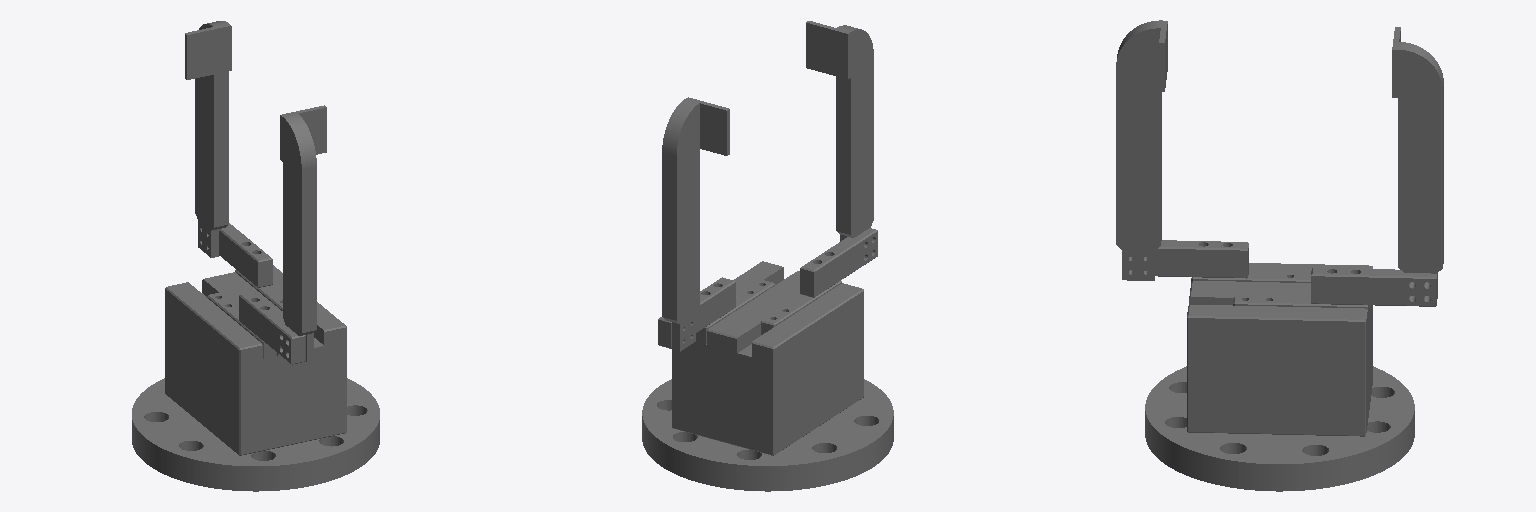
robot.urdf — custom_robots:
<?xml version="1.0" ?>
<robot name="custom_robots" version="1.0">
  <material name="black">
    <color rgba="0.0 0.0 0.0 1.0"/>
  </material>
  <material name="blue">
    <color rgba="0.0 0.0 0.8 1.0"/>
  </material>
  <material name="green">
    <color rgba="0.0 0.8 0.0 1.0"/>
  </material>
  <material name="grey_">
    <color rgba="0.2 0.2 0.2 1.0"/>
  </material>
  <material name="orange">
    <color rgba="1.0 0.423529411765 0.0392156862745 1.0"/>
  </material>
  <material name="brown">
    <color rgba="0.870588235294 0.811764705882 0.764705882353 1.0"/>
  </material>
  <material name="red">
    <color rgba="0.8 0.0 0.0 1.0"/>
  </material>
  <material name="white">
    <color rgba="1.0 1.0 1.0 1.0"/>
  </material>
  <material name="metal">
    <color rgba="0.76862745098 0.749019607843 0.729411764706 1.0"/>
  </material>
  <material name="metal_grey">
    <color rgba="0.501960784314 0.501960784314 0.501960784314 1.0"/>
  </material>
  <material name="metal_white">
    <color rgba="0.866666666667 0.866666666667 0.890196078431 1.0"/>
  </material>
  <link name="base_link"/>
  <joint name="indy0_joint_base_link" type="fixed">
    <origin rpy="0.0 0.0 3.08199950136" xyz="1.03633780199 2.0414414769 0.903441701368"/>
    <parent link="base_link"/>
    <child link="indy0_link0"/>
  </joint>
  <link name="indy0_link0">
    <inertial>
      <origin rpy="0.0 0.0 0.0" xyz="0.0 0.0 0.0"/>
      <mass value="1.59306955"/>
      <inertia ixx="0.00572623" ixy="2.51e-06" ixz="-0.0001138" iyy="0.00558959" iyz="-1.4e-07" izz="0.00966674"/>
    </inertial>
    <visual>
      <origin rpy="0.0 0.0 0.0" xyz="0.0 0.0 0.0"/>
      <geometry>
        <mesh filename="package://indy7_description/meshes/stl/Indy7_0.stl"/>
      </geometry>
      <material name="metal_grey"/>
    </visual>
    <collision>
      <origin rpy="-0.0 1.57079633 0.0" xyz="-0.1 0.0 0.03"/>
      <geometry>
        <cylinder length="0.2" radius="0.05"/>
      </geometry>
    </collision>
  </link>
  <link name="indy0_link1">
    <inertial>
      <origin rpy="0.0 0.0 0.0" xyz="0.0 0.0 0.0"/>
      <mass value="11.8030102"/>
      <inertia ixx="0.15418559" ixy="-2.35e-06" ixz="1.739e-05" iyy="0.12937017" iyz="-0.04854267" izz="0.05964415"/>
    </inertial>
    <visual>
      <origin rpy="0.0 0.0 0.0" xyz="0.0 0.0 0.0"/>
      <geometry>
        <mesh filename="package://indy7_description/meshes/stl/Indy7_1.stl"/>
      </geometry>
      <material name="metal_grey"/>
    </visual>
    <collision>
      <origin rpy="0.0 0.0 0.0" xyz="0.0 0.0 0.072"/>
      <geometry>
        <cylinder length="0.3" radius="0.1"/>
      </geometry>
    </collision>
  </link>
  <link name="indy0_link2">
    <inertial>
      <origin rpy="0.0 0.0 0.0" xyz="0.0 0.0 0.0"/>
      <mass value="7.99292141"/>
      <inertia ixx="0.2935698" ixy="-4e-07" ixz="1.441e-05" iyy="0.28094142" iyz="0.03727972" izz="0.03620609"/>
    </inertial>
    <visual>
      <origin rpy="0.0 0.0 0.0" xyz="0.0 0.0 0.0"/>
      <geometry>
        <mesh filename="package://indy7_description/meshes/stl/Indy7_2.stl"/>
      </geometry>
      <material name="metal_grey"/>
    </visual>
    <collision>
      <origin rpy="1.57079632679 0.0 -1.57079632679" xyz="-0.225 0.0 0.09"/>
      <geometry>
        <cylinder length="0.45" radius="0.073"/>
      </geometry>
    </collision>
    <collision>
      <origin rpy="0.0 0.0 0.0" xyz="0.0 0.0 -0.01"/>
      <geometry>
        <cylinder length="0.2" radius="0.085"/>
      </geometry>
    </collision>
  </link>
  <link name="indy0_link3">
    <inertial>
      <origin rpy="0.0 0.0 0.0" xyz="0.0 0.0 0.0"/>
      <mass value="2.99134127"/>
      <inertia ixx="0.03424593" ixy="1.49e-06" ixz="7.24e-06" iyy="0.03406024" iyz="0.00186009" izz="0.00450477"/>
    </inertial>
    <visual>
      <origin rpy="0.0 0.0 0.0" xyz="0.0 0.0 0.0"/>
      <geometry>
        <mesh filename="package://indy7_description/meshes/stl/Indy7_3.stl"/>
      </geometry>
      <material name="metal_grey"/>
    </visual>
    <collision>
      <origin rpy="0.0 0.0 0.0" xyz="0.0 0.0 0.03"/>
      <geometry>
        <cylinder length="0.2" radius="0.065"/>
      </geometry>
    </collision>
  </link>
  <link name="indy0_link4">
    <inertial>
      <origin rpy="0.0 0.0 0.0" xyz="0.0 0.0 0.0"/>
      <mass value="2.12317035"/>
      <inertia ixx="0.00670405" ixy="3.75e-06" ixz="1.5e-06" iyy="0.00279246" iyz="-0.00127967" izz="0.00619341"/>
    </inertial>
    <visual>
      <origin rpy="0.0 0.0 0.0" xyz="0.0 0.0 0.0"/>
      <geometry>
        <mesh filename="package://indy7_description/meshes/stl/Indy7_4.stl"/>
      </geometry>
      <material name="metal_grey"/>
    </visual>
    <collision>
      <origin rpy="0.0 0.0 0.0" xyz="0.0 0.0 -0.092"/>
      <geometry>
        <cylinder length="0.35" radius="0.06"/>
      </geometry>
    </collision>
  </link>
  <link name="indy0_link5">
    <inertial>
      <origin rpy="0.0 0.0 0.0" xyz="0.0 0.0 0.0"/>
      <mass value="2.28865091"/>
      <inertia ixx="0.00994891" ixy="1.4e-07" ixz="3.21e-06" iyy="0.00978189" iyz="-0.00093546" izz="0.00271492"/>
    </inertial>
    <visual>
      <origin rpy="0.0 0.0 0.0" xyz="0.0 0.0 0.0"/>
      <geometry>
        <mesh filename="package://indy7_description/meshes/stl/Indy7_5.stl"/>
      </geometry>
      <material name="metal_grey"/>
    </visual>
    <collision>
      <origin rpy="0.0 0.0 0.0" xyz="-0.0 0.0 -0.0225"/>
      <geometry>
        <cylinder length="0.183" radius="0.055"/>
      </geometry>
    </collision>
  </link>
  <link name="indy0_link6">
    <inertial>
      <origin rpy="0.0 0.0 0.0" xyz="0.0 0.0 0.0"/>
      <mass value="0.40083918"/>
      <inertia ixx="0.00043534" ixy="1.3e-07" ixz="-2e-08" iyy="0.00044549" iyz="5.1e-07" izz="0.00059634"/>
    </inertial>
    <visual>
      <origin rpy="0.0 0.0 0.0" xyz="0.0 0.0 0.0"/>
      <geometry>
        <mesh filename="package://indy7_description/meshes/stl/Indy7_6.stl"/>
      </geometry>
      <material name="metal_grey"/>
    </visual>
    <collision>
      <origin rpy="0.0 0.0 0.0" xyz="0.0 0.0 -0.038"/>
      <geometry>
        <cylinder length="0.25" radius="0.06"/>
      </geometry>
    </collision>
  </link>
  <link name="indy0_tcp">
    <visual>
      <origin rpy="0.0 0.0 1.570796" xyz="0.0 0.0 0.0"/>
      <geometry>
        <mesh filename="package://my_mesh/meshes/stl/indy_gripper_asm2_res.STL"/>
      </geometry>
      <material name="metal_grey"/>
    </visual>
    <collision>
      <origin rpy="0.0 0.0 0.0" xyz="0.005 0.044 0.1"/>
      <geometry>
        <cylinder length="0.08" radius="0.016"/>
      </geometry>
    </collision>
    <collision>
      <origin rpy="0.0 0.0 0.0" xyz="-0.005 0.044 0.1"/>
      <geometry>
        <cylinder length="0.08" radius="0.016"/>
      </geometry>
    </collision>
    <collision>
      <origin rpy="0.0 0.0 0.0" xyz="0.005 -0.044 0.1"/>
      <geometry>
        <cylinder length="0.08" radius="0.016"/>
      </geometry>
    </collision>
    <collision>
      <origin rpy="0.0 0.0 0.0" xyz="-0.005 -0.044 0.1"/>
      <geometry>
        <cylinder length="0.08" radius="0.016"/>
      </geometry>
    </collision>
  </link>
  <joint name="indy0_joint0" type="revolute">
    <origin rpy="0.0 0.0 0.0" xyz="0.0 0.0 0.0775"/>
    <axis xyz="0.0 0.0 1.0"/>
    <parent link="indy0_link0"/>
    <child link="indy0_link1"/>
    <limit effort="3.14159265359" lower="-3.05432619099" upper="3.05432619099" velocity="1.308996939"/>
  </joint>
  <joint name="indy0_joint1" type="revolute">
    <origin rpy="1.57079632679 1.57079632679 0.0" xyz="0.0 -0.109 0.222"/>
    <axis xyz="0.0 0.0 1.0"/>
    <parent link="indy0_link1"/>
    <child link="indy0_link2"/>
    <limit effort="3.14159265359" lower="-3.05432619099" upper="3.05432619099" velocity="1.308996939"/>
  </joint>
  <joint name="indy0_joint2" type="revolute">
    <origin rpy="0.0 0.0 0.0" xyz="-0.45 0.0 -0.0305"/>
    <axis xyz="0.0 0.0 1.0"/>
    <parent link="indy0_link2"/>
    <child link="indy0_link3"/>
    <limit effort="3.14159265359" lower="-3.05432619099" upper="3.05432619099" velocity="1.308996939"/>
  </joint>
  <joint name="indy0_joint3" type="revolute">
    <origin rpy="-1.57079632679 0.0 1.57079632679" xyz="-0.267 0.0 -0.075"/>
    <axis xyz="0.0 0.0 1.0"/>
    <parent link="indy0_link3"/>
    <child link="indy0_link4"/>
    <limit effort="3.14159265359" lower="-3.05432619099" upper="3.05432619099" velocity="1.57079632679"/>
  </joint>
  <joint name="indy0_joint4" type="revolute">
    <origin rpy="1.57079632679 1.57079632679 0.0" xyz="0.0 -0.114 0.083"/>
    <axis xyz="0.0 0.0 1.0"/>
    <parent link="indy0_link4"/>
    <child link="indy0_link5"/>
    <limit effort="3.14159265359" lower="-3.05432619099" upper="3.05432619099" velocity="1.57079632679"/>
  </joint>
  <joint name="indy0_joint5" type="revolute">
    <origin rpy="-1.57079632679 0.0 1.57079632679" xyz="-0.168 0.0 0.069"/>
    <axis xyz="0.0 0.0 1.0"/>
    <parent link="indy0_link5"/>
    <child link="indy0_link6"/>
    <limit effort="3.14159265359" lower="-3.75245789179" upper="3.75245789179" velocity="1.57079632679"/>
  </joint>
  <joint name="indy0_tcp" type="fixed">
    <origin rpy="0.0 0.0 0.0" xyz="0.0 0.0 0.06"/>
    <parent link="indy0_link6"/>
    <child link="indy0_tcp"/>
  </joint>
  <transmission name="indy0_tran0">
    <type>transmission_interface/SimpleTransmission</type>
    <joint name="indy0_joint0">
      <hardwareInterface>PositionJointInterface</hardwareInterface>
    </joint>
    <actuator name="indy0_motor0">
      <mechanicalReduction>1.0</mechanicalReduction>
    </actuator>
  </transmission>
  <transmission name="indy0_tran1">
    <type>transmission_interface/SimpleTransmission</type>
    <joint name="indy0_joint1">
      <hardwareInterface>PositionJointInterface</hardwareInterface>
    </joint>
    <actuator name="indy0_motor1">
      <mechanicalReduction>1.0</mechanicalReduction>
    </actuator>
  </transmission>
  <transmission name="indy0_tran2">
    <type>transmission_interface/SimpleTransmission</type>
    <joint name="indy0_joint2">
      <hardwareInterface>PositionJointInterface</hardwareInterface>
    </joint>
    <actuator name="indy0_motor2">
      <mechanicalReduction>1.0</mechanicalReduction>
    </actuator>
  </transmission>
  <transmission name="indy0_tran3">
    <type>transmission_interface/SimpleTransmission</type>
    <joint name="indy0_joint3">
      <hardwareInterface>PositionJointInterface</hardwareInterface>
    </joint>
    <actuator name="indy0_motor3">
      <mechanicalReduction>1.0</mechanicalReduction>
    </actuator>
  </transmission>
  <transmission name="indy0_tran4">
    <type>transmission_interface/SimpleTransmission</type>
    <joint name="indy0_joint4">
      <hardwareInterface>PositionJointInterface</hardwareInterface>
    </joint>
    <actuator name="indy0_motor4">
      <mechanicalReduction>1.0</mechanicalReduction>
    </actuator>
  </transmission>
  <transmission name="indy0_tran5">
    <type>transmission_interface/SimpleTransmission</type>
    <joint name="indy0_joint5">
      <hardwareInterface>PositionJointInterface</hardwareInterface>
    </joint>
    <actuator name="indy0_motor5">
      <mechanicalReduction>1.0</mechanicalReduction>
    </actuator>
  </transmission>
  <joint name="panda1_joint_base_link" type="fixed">
    <origin rpy="0.0 -0.0 0.0" xyz="-0.0 -0.0 -0.0"/>
    <parent link="panda1_link0"/>
    <child link="base_link"/>
  </joint>
  <link name="panda1_link0">
    <visual>
      <origin rpy="0.0 -0.0 0.0" xyz="0.0 0.0 0.0"/>
      <geometry>
        <mesh filename="package://franka_description/meshes/visual/link0.dae"/>
      </geometry>
    </visual>
    <collision>
      <origin rpy="3.14159265 -1.37340076987 3.14159265" xyz="-0.0299999993294 0.0 0.0299999993294"/>
      <geometry>
        <cylinder length="0.102" radius="0.1"/>
      </geometry>
    </collision>
    <collision>
      <origin rpy="1.57079633 -0.0 0.0" xyz="-0.0500000007451 0.0 0.0299999993294"/>
      <geometry>
        <cylinder length="0.3" radius="0.05"/>
      </geometry>
    </collision>
  </link>
  <link name="panda1_link1">
    <visual>
      <origin rpy="0.0 -0.0 0.0" xyz="0.0 0.0 0.0"/>
      <geometry>
        <mesh filename="package://franka_description/meshes/visual/link1.dae"/>
      </geometry>
    </visual>
    <collision>
      <origin rpy="-2.71183038127 -0.0 0.0" xyz="0.0 -0.027499999851 -0.0750000029802"/>
      <geometry>
        <cylinder length="0.132" radius="0.11"/>
      </geometry>
    </collision>
  </link>
  <joint name="panda1_joint1" type="revolute">
    <origin rpy="0.0 -0.0 0.0" xyz="-0.0 -0.0 -0.0"/>
    <axis xyz="0.0 0.0 1.0"/>
    <parent link="panda1_link1"/>
    <child link="panda1_link0"/>
    <limit effort="3.14159265359" lower="-0.0479965544298" upper="0.0479965544298" velocity="1.308996939"/>
    <safety_controller k_position="100.0" k_velocity="40.0" soft_lower_limit="-2.8973" soft_upper_limit="2.8973"/>
  </joint>
  <link name="panda1_link2">
    <visual>
      <origin rpy="0.0 -0.0 0.0" xyz="0.0 0.0 0.0"/>
      <geometry>
        <mesh filename="package://franka_description/meshes/visual/link2.dae"/>
      </geometry>
    </visual>
    <collision>
      <origin rpy="1.98320677181 -0.0 0.0" xyz="0.0 -0.0799999982119 0.035000000149"/>
      <geometry>
        <cylinder length="0.175" radius="0.09"/>
      </geometry>
    </collision>
  </link>
  <joint name="panda1_joint2" type="revolute">
    <origin rpy="0.0 -0.0 0.0" xyz="-0.0 -0.0 -0.0"/>
    <axis xyz="0.0 0.0 1.0"/>
    <parent link="panda1_link2"/>
    <child link="panda1_link1"/>
    <limit effort="3.14159265359" lower="-0.0296705972839" upper="0.0296705972839" velocity="1.308996939"/>
    <safety_controller k_position="100.0" k_velocity="40.0" soft_lower_limit="-1.7628" soft_upper_limit="1.7628"/>
  </joint>
  <link name="panda1_link3">
    <visual>
      <origin rpy="0.0 -0.0 0.0" xyz="0.0 0.0 0.0"/>
      <geometry>
        <mesh filename="package://franka_description/meshes/visual/link3.dae"/>
      </geometry>
    </visual>
    <collision>
      <origin rpy="2.48451770333 -0.735512370241 -1.69290814136" xyz="0.0399999991059 0.0270000007004 -0.035000000149"/>
      <geometry>
        <cylinder length="0.12" radius="0.09"/>
      </geometry>
    </collision>
  </link>
  <joint name="panda1_joint3" type="revolute">
    <origin rpy="0.0 -0.0 0.0" xyz="-0.0 -0.0 -0.0"/>
    <axis xyz="0.0 0.0 1.0"/>
    <parent link="panda1_link3"/>
    <child link="panda1_link2"/>
    <limit effort="3.14159265359" lower="-0.0479965544298" upper="0.0479965544298" velocity="1.308996939"/>
    <safety_controller k_position="100.0" k_velocity="40.0" soft_lower_limit="-2.8973" soft_upper_limit="2.8973"/>
  </joint>
  <link name="panda1_link4">
    <visual>
      <origin rpy="0.0 -0.0 0.0" xyz="0.0 0.0 0.0"/>
      <geometry>
        <mesh filename="package://franka_description/meshes/visual/link4.dae"/>
      </geometry>
    </visual>
    <collision>
      <origin rpy="-2.00647919366 -0.714569383314 1.05945849355" xyz="-0.0555000007153 0.0579999983311 0.0270000007004"/>
      <geometry>
        <cylinder length="0.17" radius="0.08"/>
      </geometry>
    </collision>
  </link>
  <joint name="panda1_joint4" type="revolute">
    <origin rpy="0.0 -0.0 0.0" xyz="-0.0 -0.0 -0.0"/>
    <axis xyz="0.0 0.0 1.0"/>
    <parent link="panda1_link4"/>
    <child link="panda1_link3"/>
    <limit effort="3.14159265359" lower="-0.0506145483078" upper="-0.00174532925199" velocity="1.308996939"/>
    <safety_controller k_position="100.0" k_velocity="40.0" soft_lower_limit="-3.0718" soft_upper_limit="-0.0698"/>
  </joint>
  <link name="panda1_link5">
    <visual>
      <origin rpy="0.0 -0.0 0.0" xyz="0.0 0.0 0.0"/>
      <geometry>
        <mesh filename="package://franka_description/meshes/visual/link5.dae"/>
      </geometry>
    </visual>
    <collision>
      <origin rpy="2.87423727506 -0.0 0.0" xyz="0.0 0.0315000005066 -0.115000002086"/>
      <geometry>
        <cylinder length="0.238" radius="0.08"/>
      </geometry>
    </collision>
  </link>
  <joint name="panda1_joint5" type="revolute">
    <origin rpy="0.0 -0.0 0.0" xyz="-0.0 -0.0 -0.0"/>
    <axis xyz="0.0 0.0 1.0"/>
    <parent link="panda1_link5"/>
    <child link="panda1_link4"/>
    <limit effort="3.14159265359" lower="-0.0479965544298" upper="0.0479965544298" velocity="1.57079632679"/>
    <safety_controller k_position="100.0" k_velocity="40.0" soft_lower_limit="-2.8973" soft_upper_limit="2.8973"/>
  </joint>
  <link name="panda1_link6">
    <visual>
      <origin rpy="0.0 -0.0 0.0" xyz="0.0 0.0 0.0"/>
      <geometry>
        <mesh filename="package://franka_description/meshes/visual/link6.dae"/>
      </geometry>
    </visual>
    <collision>
      <origin rpy="-0.0 -1.57079632359 0.0" xyz="0.035000000149 0.0 0.0"/>
      <geometry>
        <cylinder length="0.09" radius="0.065"/>
      </geometry>
    </collision>
    <collision>
      <origin rpy="1.57079633 -0.0 0.0" xyz="0.0900000035763 -0.00999999977648 0.0"/>
      <geometry>
        <cylinder length="0.13" radius="0.05"/>
      </geometry>
    </collision>
    <collision>
      <origin rpy="0.199999994623 1.57079632359 0.0" xyz="0.0850000008941 0.0500000007451 0.0"/>
      <geometry>
        <cylinder length="0.08" radius="0.04"/>
      </geometry>
    </collision>
  </link>
  <joint name="panda1_joint6" type="revolute">
    <origin rpy="0.0 -0.0 0.0" xyz="-0.0 -0.0 -0.0"/>
    <axis xyz="0.0 0.0 1.0"/>
    <parent link="panda1_link6"/>
    <child link="panda1_link5"/>
    <limit effort="3.14159265359" lower="0.00174532925199" upper="0.0628318530718" velocity="1.57079632679"/>
    <safety_controller k_position="100.0" k_velocity="40.0" soft_lower_limit="-0.0175" soft_upper_limit="3.7525"/>
  </joint>
  <link name="panda1_link7">
    <visual>
      <origin rpy="0.0 -0.0 0.0" xyz="0.0 0.0 0.0"/>
      <geometry>
        <mesh filename="package://franka_description/meshes/visual/link7.dae"/>
      </geometry>
    </visual>
  </link>
  <joint name="panda1_joint7" type="revolute">
    <origin rpy="0.0 -0.0 0.0" xyz="-0.0 -0.0 -0.0"/>
    <axis xyz="0.0 0.0 1.0"/>
    <parent link="panda1_link7"/>
    <child link="panda1_link6"/>
    <limit effort="3.14159265359" lower="-0.0479965544298" upper="0.0479965544298" velocity="1.57079632679"/>
    <safety_controller k_position="100.0" k_velocity="40.0" soft_lower_limit="-2.8973" soft_upper_limit="2.8973"/>
  </joint>
  <link name="panda1_link8"/>
  <joint name="panda1_joint8" type="fixed">
    <origin rpy="0.0 -0.0 0.0" xyz="-0.0 -0.0 -0.0"/>
    <axis xyz="0.0 0.0 0.0"/>
    <parent link="panda1_link8"/>
    <child link="panda1_link7"/>
  </joint>
  <joint name="panda1_hand_joint" type="fixed">
    <origin rpy="0.0 -0.0 0.0" xyz="0.0 0.0 0.0"/>
    <parent link="panda1_hand"/>
    <child link="panda1_link8"/>
  </joint>
  <link name="panda1_hand">
    <visual>
      <origin rpy="0.0 -0.0 0.0" xyz="0.0 0.0 0.0"/>
      <geometry>
        <mesh filename="package://franka_description/meshes/visual/hand.dae"/>
      </geometry>
    </visual>
    <collision>
      <origin rpy="1.57079633 -0.0 0.0" xyz="0.0 0.0 0.0299999993294"/>
      <geometry>
        <cylinder length="0.16" radius="0.045"/>
      </geometry>
    </collision>
    <collision>
      <origin rpy="-0.0 1.57079632359 0.0" xyz="0.0 0.070000000298 -0.019999999553"/>
      <geometry>
        <cylinder length="0.055" radius="0.02"/>
      </geometry>
    </collision>
    <collision>
      <origin rpy="1.57079633 -0.0 0.0" xyz="0.0 -0.070000000298 -0.019999999553"/>
      <geometry>
        <cylinder length="0.05" radius="0.01"/>
      </geometry>
    </collision>
  </link>
  <link name="panda1_leftfinger">
    <visual>
      <geometry>
        <mesh filename="package://franka_description/meshes/visual/finger.dae"/>
      </geometry>
    </visual>
    <collision>
      <origin rpy="-2.73268482 0.0 0.0" xyz="0.0 0.0135 0.035"/>
      <geometry>
        <cylinder length="0.0325" radius="0.018"/>
      </geometry>
    </collision>
  </link>
  <link name="panda1_rightfinger">
    <visual>
      <origin rpy="0.0 0.0 3.14159265359" xyz="0.0 0.0 0.0"/>
      <geometry>
        <mesh filename="package://franka_description/meshes/visual/finger.dae"/>
      </geometry>
    </visual>
    <collision>
      <origin rpy="-2.73268482 0.0 -3.14159265" xyz="0.0 -0.0135 0.035"/>
      <geometry>
        <cylinder length="0.0325" radius="0.018"/>
      </geometry>
    </collision>
  </link>
  <joint name="panda1_finger_joint1" type="fixed">
    <origin rpy="0.0 0.0 0.0" xyz="0.0 0.04 0.0584"/>
    <parent link="panda1_hand"/>
    <child link="panda1_leftfinger"/>
  </joint>
  <joint name="panda1_finger_joint2" type="fixed">
    <origin rpy="0.0 0.0 0.0" xyz="0.0 -0.04 0.0584"/>
    <parent link="panda1_hand"/>
    <child link="panda1_rightfinger"/>
    <mimic joint="panda1_finger_joint1"/>
  </joint>
</robot>

--- Facts derived from the render (not from the file) ---
3 views of the same robot in one strip: view 1: azimuth 30°, elevation 25°; view 2: azimuth 150°, elevation 25°; view 3: azimuth 270°, elevation 25° (orthographic).
Model custom_robots with 21 links and 20 joints (13 revolute, 7 fixed), rooted at panda1_hand, posed all joints at 0 but 2 set to mid-range because 0 is outside their limits (panda1_joint4 = -0.0262, panda1_joint6 = 0.0323).
Visible links, largest first — view 1: indy0_tcp; view 2: indy0_tcp; view 3: indy0_tcp.
Link boxes in pixels (x1,y1,x2,y2): indy0_tcp: (132,21,379,491); indy0_tcp: (642,21,893,491); indy0_tcp: (1116,20,1443,491).
Size in the robot's own frame: 0.09 by 0.1095 by 0.1472 metres.
Meshes: 18 distinct files referenced, 1 mesh visuals loaded (1 binary STL); not drawn: 18 (reference not matched to a file when rendering).